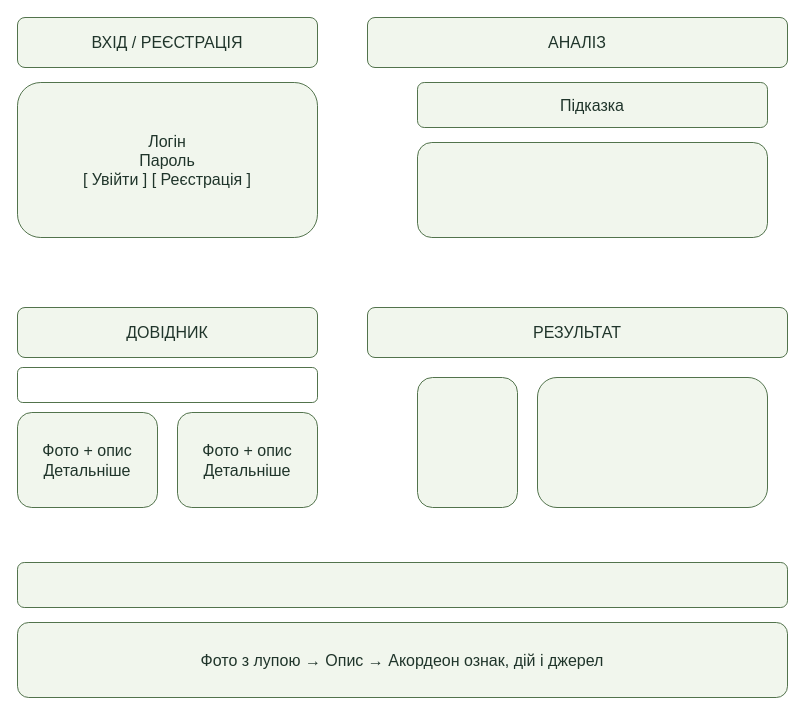
This 805x715 diagram has some shape labels left out. The centre of each missing label's shape, as x and y in pixels:
Пошук за назвою або симптомами: point 167,384
СТАТТЯ: point 402,585
Фото: point 467,442
Фото листка [ Вибір файла ] [ Здійснити аналіз ]: point 592,190
Хвороба + опис Діаграма | Шкала: point 652,442
